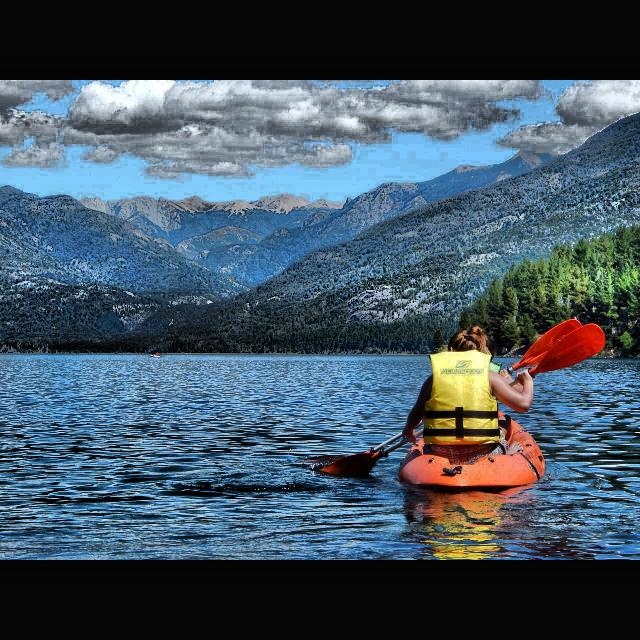kayak: (397, 404, 547, 492)
